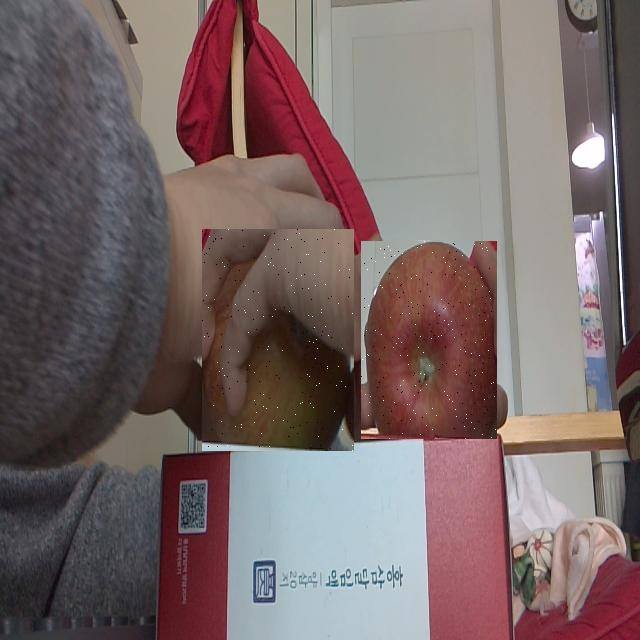apple: (202, 229, 354, 451), (361, 241, 497, 439)
